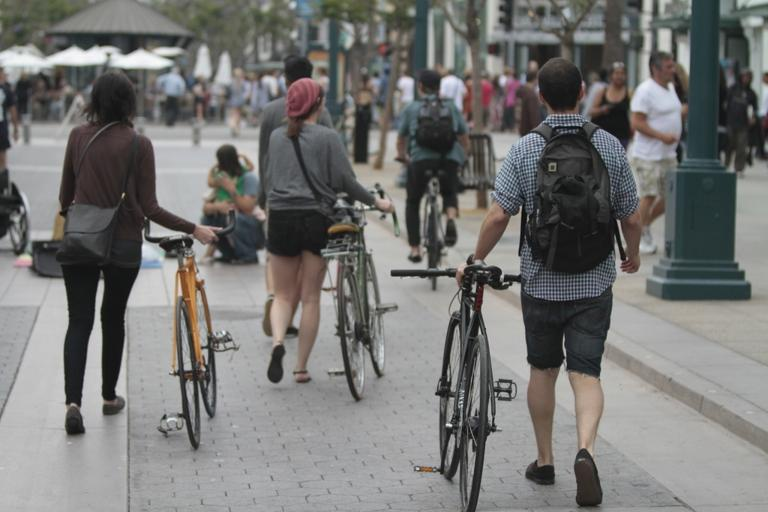non-vehicle: (387, 263, 524, 512), (142, 209, 239, 447), (319, 181, 402, 400), (394, 156, 445, 289)
